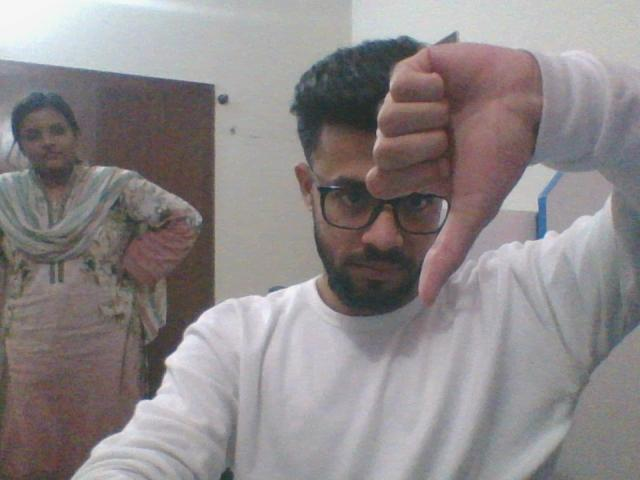thumbs-down: (369, 33, 522, 303)
